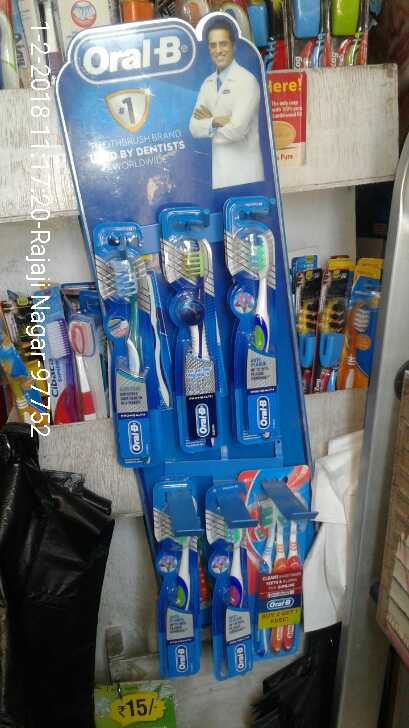oralb: (227, 202, 295, 438), (160, 207, 212, 447), (102, 232, 154, 455), (252, 462, 311, 656), (145, 490, 201, 670), (209, 472, 252, 679)
